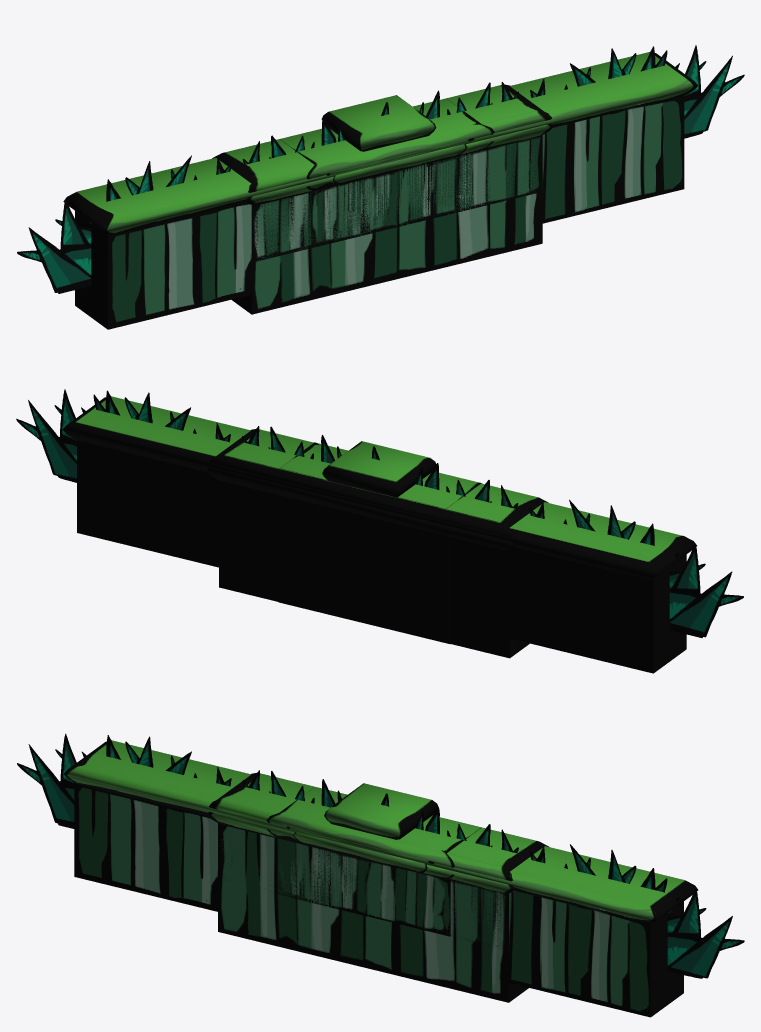
File: VanaheimModules.fbx
3 renders of one model, top to bottom at view 1: azimuth 30°, elevation 25°; view 2: azimuth 150°, elevation 25°; view 3: azimuth 330°, elevation 25°, orthographic.
Parts seen in each view (by area): view 1: PS_10-1M_low, PV_5-2M_low, PV_5-1M_low, PP_Volumen_low, PV_3-1M_low, PV_3-2M_low, PV_1-2M_low, PV_2-1M_low; view 2: PS_10-1M_low, PV_5-2M_low, PP_Volumen_low, PV_3-2M_low, PV_2-1M_low, PV_2-2M_low, PV_1-2M_low, PV_5-1M_low, PV_3-1M_low; view 3: PS_10-1M_low, PV_5-2M_low, PP_Volumen_low, PV_3-1M_low, PV_3-2M_low, PV_1-2M_low, PV_5-1M_low, PV_2-1M_low.
Boxes of the visible parts, box(x1,y1,x2,y2) form: PS_10-1M_low: box(63, 52, 698, 329); PV_5-2M_low: box(212, 84, 551, 314); PV_5-1M_low: box(246, 123, 553, 262); PP_Volumen_low: box(17, 45, 744, 293); PV_3-1M_low: box(306, 141, 493, 247); PV_3-2M_low: box(280, 98, 494, 179); PV_1-2M_low: box(321, 95, 436, 151); PV_2-1M_low: box(333, 144, 467, 185); PS_10-1M_low: box(63, 396, 696, 673); PV_5-2M_low: box(208, 429, 548, 658); PP_Volumen_low: box(16, 389, 743, 637); PV_3-2M_low: box(278, 442, 481, 643); PV_2-1M_low: box(301, 500, 424, 587); PV_2-2M_low: box(297, 499, 429, 629); PV_1-2M_low: box(322, 441, 436, 497); PV_5-1M_low: box(207, 467, 514, 550); PV_3-1M_low: box(267, 485, 454, 535); PS_10-1M_low: box(64, 740, 698, 1017); PV_5-2M_low: box(209, 773, 548, 1002); PP_Volumen_low: box(17, 733, 744, 978); PV_3-1M_low: box(267, 829, 454, 936); PV_3-2M_low: box(266, 787, 481, 867); PV_1-2M_low: box(324, 783, 438, 839); PV_5-1M_low: box(207, 811, 515, 949); PV_2-1M_low: box(293, 832, 427, 873).
Bounding box in the file's own units: 12.78 × 2.72 × 1.22.
